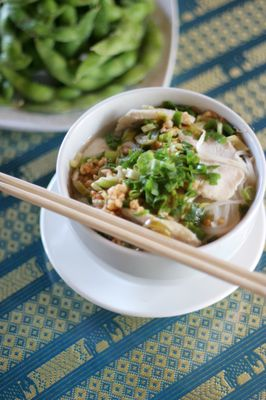salad: (1, 172, 258, 315), (1, 172, 230, 266)
sushi: (3, 86, 262, 312), (0, 0, 180, 129)
